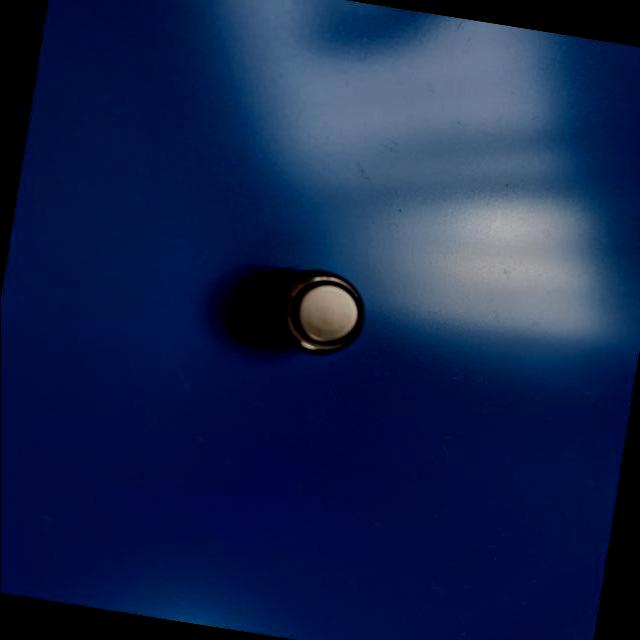COIN: (242, 258, 372, 363)
